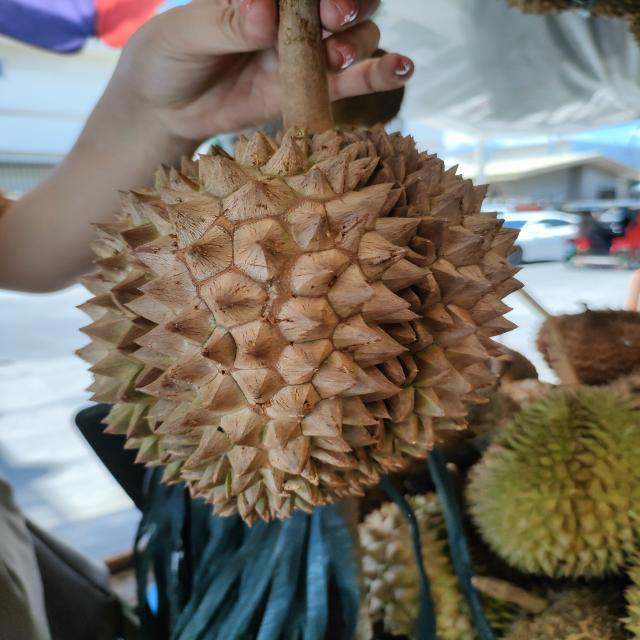mature: (74, 122, 526, 529)
